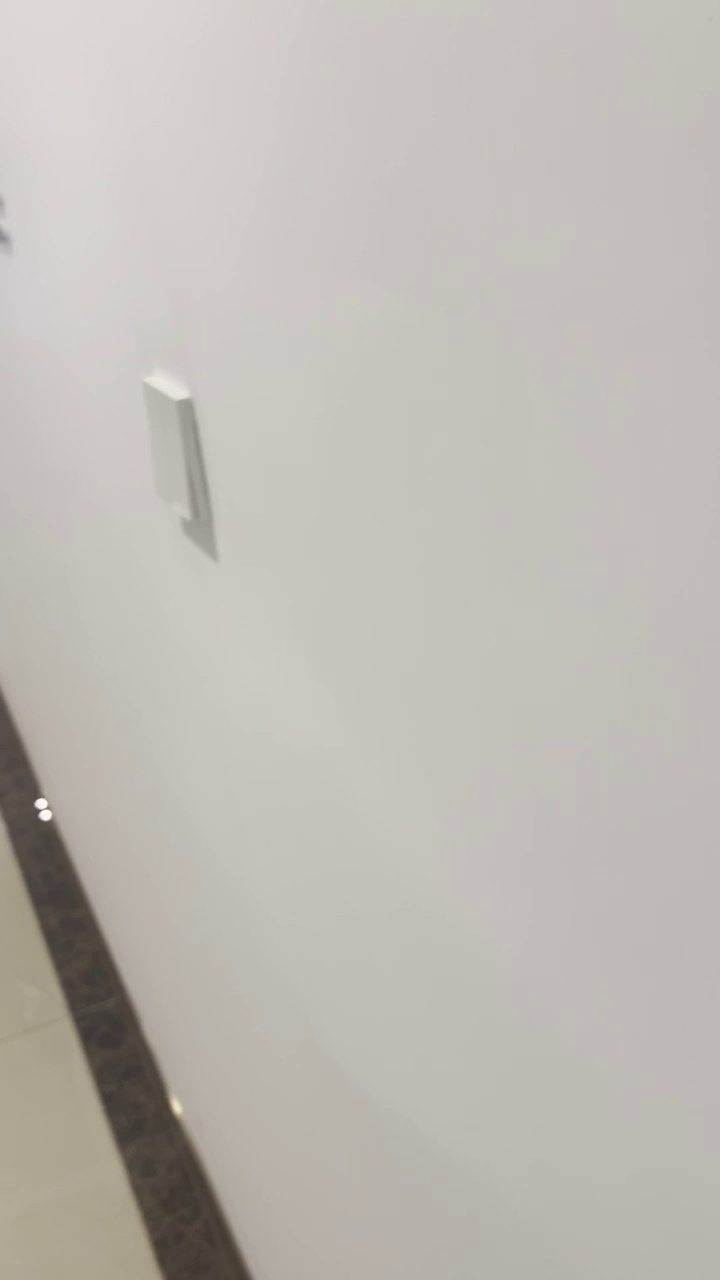button: (134, 371, 221, 536)
